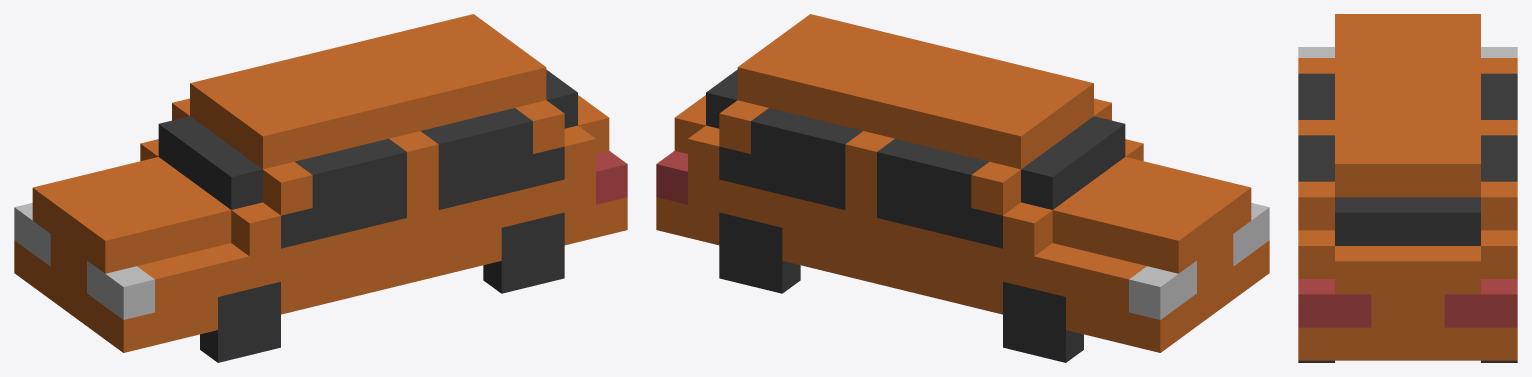
File: car-v3-orange.gltf
3 views of the same model, side by side, from view 1: azimuth 30°, elevation 25°; view 2: azimuth 150°, elevation 25°; view 3: azimuth 270°, elevation 25° (orthographic).
Visible parts, largest first — view 1: model, wheels; view 2: model, wheels; view 3: model, wheels.
Part boxes in pixels (left/top/right/bottom): model: left=14, top=14, right=627, bottom=352; wheels: left=200, top=212, right=564, bottom=362; model: left=656, top=14, right=1269, bottom=352; wheels: left=719, top=212, right=1083, bottom=362; model: left=1298, top=14, right=1517, bottom=360; wheels: left=1298, top=360, right=1517, bottom=362.
Bounding box in the file's own units: 1.6 × 0.6 × 0.6.
Materials: 2 (2 with a texture image).
